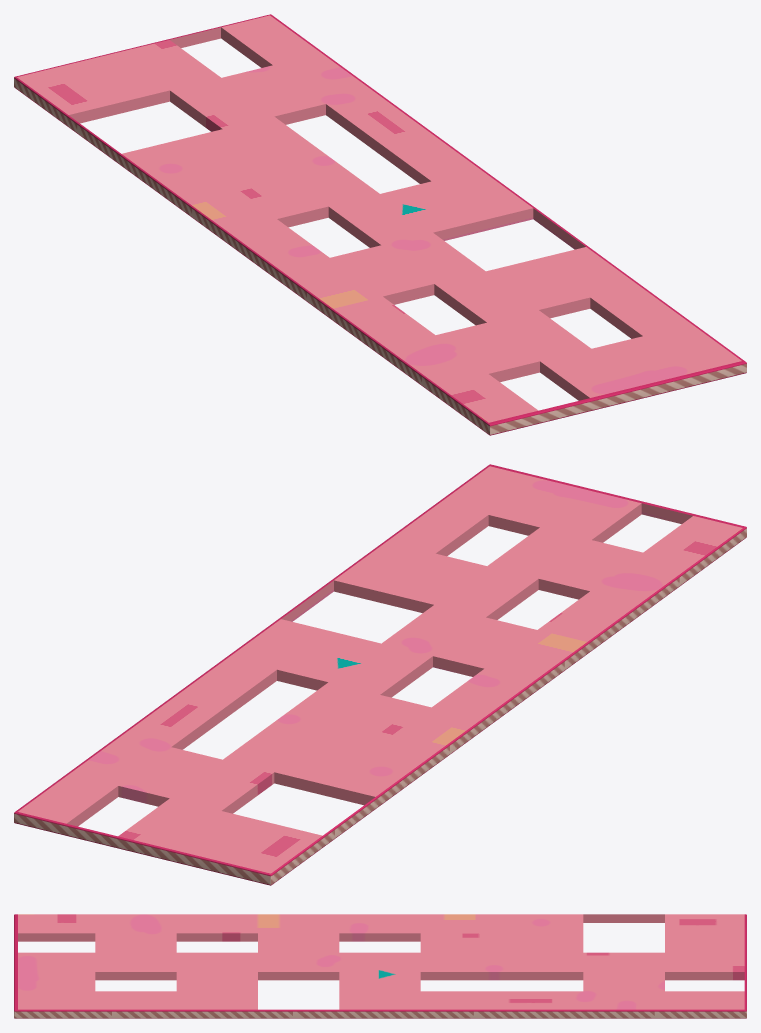
The model's file is PLF0110055.fbx.
The picture shows the model from 3 angles, top to bottom: view 1: azimuth 30°, elevation 25°; view 2: azimuth 150°, elevation 25°; view 3: azimuth 270°, elevation 25°; orthographic projection. The views are drawn at different scales.
Visible parts, largest first — view 1: smPLF0110055; view 2: smPLF0110055; view 3: smPLF0110055.
Part boxes in pixels (bbox=[...]): smPLF0110055: bbox=[14, 14, 746, 435]; smPLF0110055: bbox=[14, 464, 746, 885]; smPLF0110055: bbox=[14, 914, 746, 1018].
Bounding box in the file's own units: 513 × 21.25 × 1642.
Materials: 1 (1 with a texture image).
